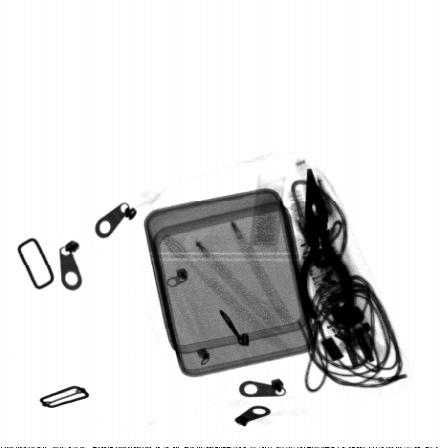Pliers: (299, 166, 356, 327)
